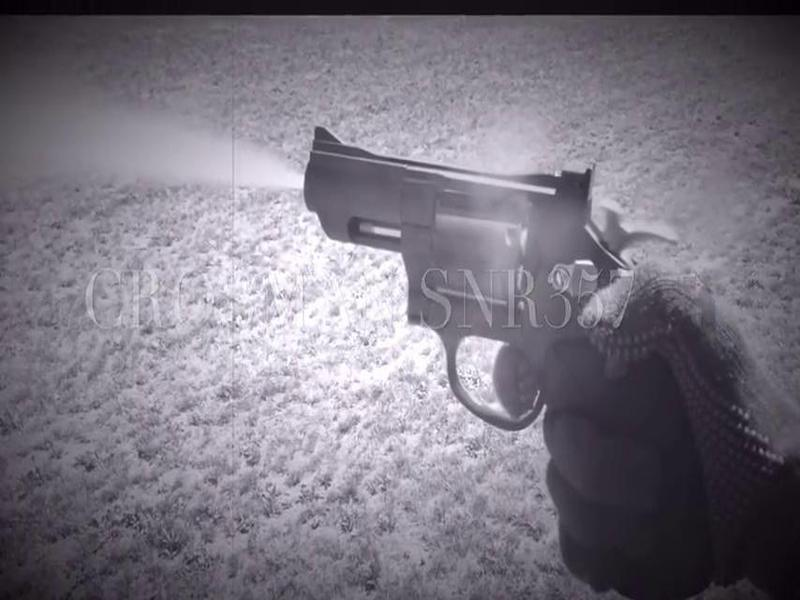Revolver: (274, 104, 676, 441)
